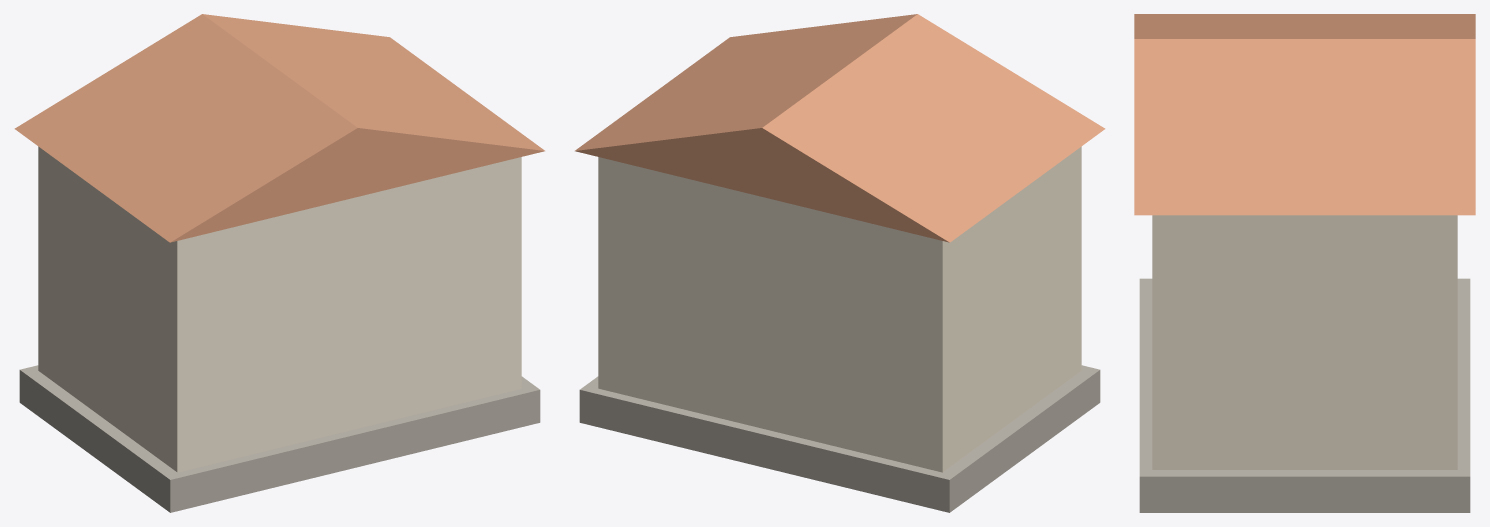
Rendered from tin_roof_bakery_far-DWMv2LF1.glb.
The picture shows the model from 3 angles, left to right: view 1: azimuth 30°, elevation 25°; view 2: azimuth 150°, elevation 25°; view 3: azimuth 270°, elevation 25°; orthographic projection. The views are drawn at different scales.
Parts seen in each view (by area): view 1: tin_roof_bakery_far; view 2: tin_roof_bakery_far; view 3: tin_roof_bakery_far.
Part boxes in pixels (<box>): tin_roof_bakery_far: <box>14,14,544,512</box>; tin_roof_bakery_far: <box>575,14,1105,512</box>; tin_roof_bakery_far: <box>1134,14,1475,512</box>.
Size of the model in its own units: 6.55 by 5.69 by 4.7.
